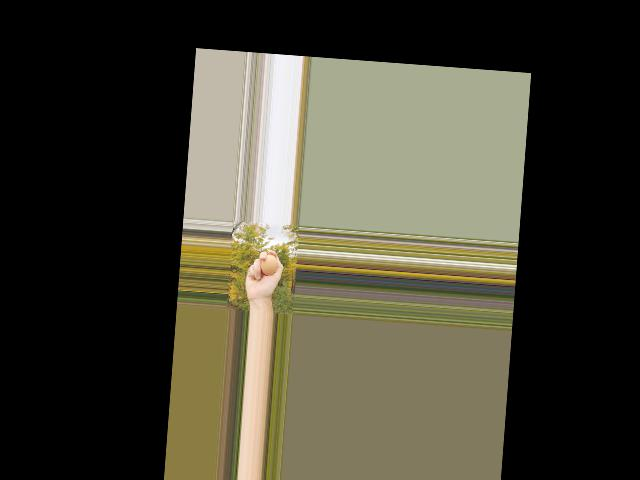egg: (259, 253, 277, 275)
